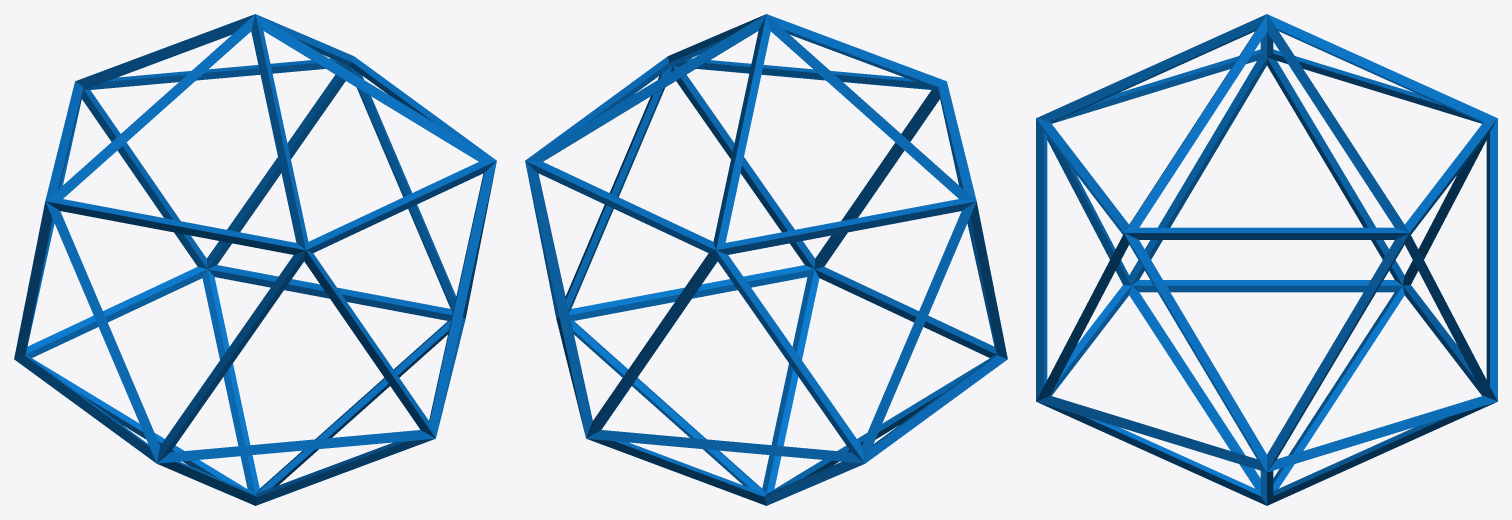
Rendered from ICOSphereWireFrame.obj.
The picture shows the model from 3 angles, left to right: view 1: azimuth 30°, elevation 25°; view 2: azimuth 150°, elevation 25°; view 3: azimuth 270°, elevation 25°; orthographic projection.
Parts seen in each view (by area): view 1: ICO球; view 2: ICO球; view 3: ICO球.
Boxes of the visible parts, <box> form: ICO球: <box>14,14,496,505</box>; ICO球: <box>525,14,1007,505</box>; ICO球: <box>1036,14,1497,505</box>.
Bounding box in the file's own units: 0.9168 × 1.02 × 0.8719.
